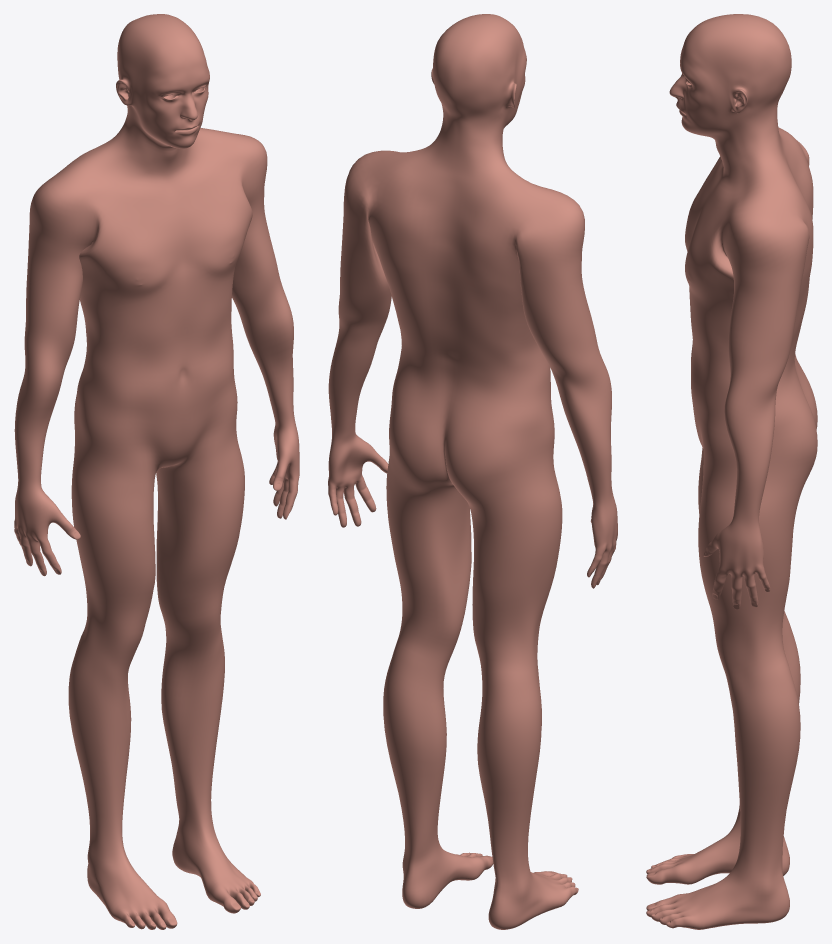
Rendered from dermis-web.glb.
3 views of the same model, side by side, from view 1: azimuth 30°, elevation 25°; view 2: azimuth 150°, elevation 25°; view 3: azimuth 270°, elevation 25° (orthographic).
Visible parts, largest first — view 1: Dermal layer; view 2: Dermal layer; view 3: Dermal layer.
Part boxes in pixels (<box>): Dermal layer: <box>14,14,299,929</box>; Dermal layer: <box>328,14,617,929</box>; Dermal layer: <box>646,14,817,929</box>.
Size of the model in its own units: 0.5712 by 1.72 by 0.303.
